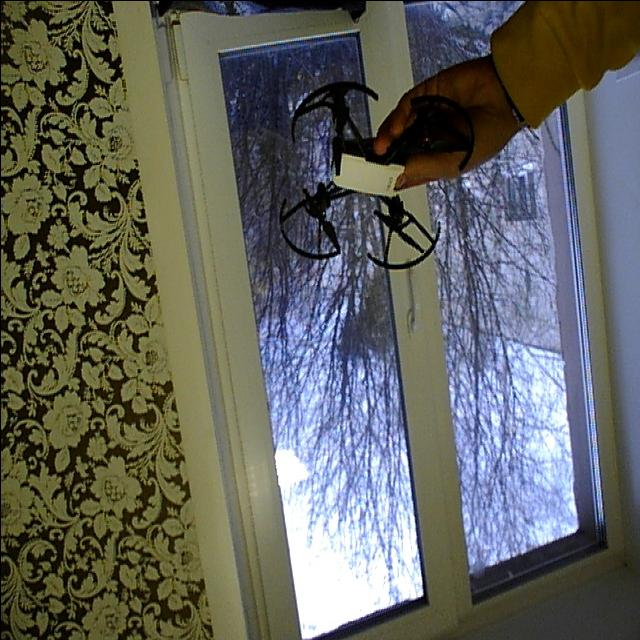drone: (266, 65, 478, 274)
